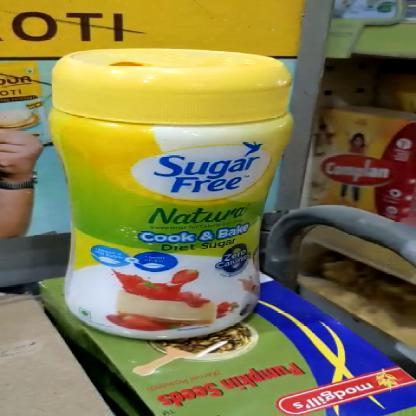SUGAR FREE NATURA DIET SUGAR 80GM: (40, 44, 294, 345)
